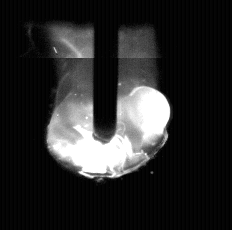arame: (94, 0, 118, 145)
poca: (46, 0, 168, 230)
